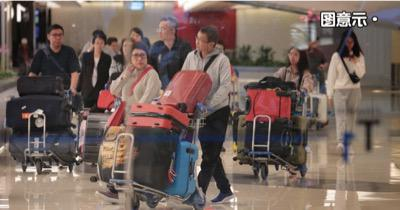without_mask: (130, 51, 148, 69), (157, 24, 170, 41), (50, 31, 63, 46), (195, 34, 206, 51), (288, 50, 299, 63), (122, 42, 133, 55), (344, 39, 354, 50), (94, 40, 105, 50), (131, 32, 141, 42), (109, 42, 118, 52)
